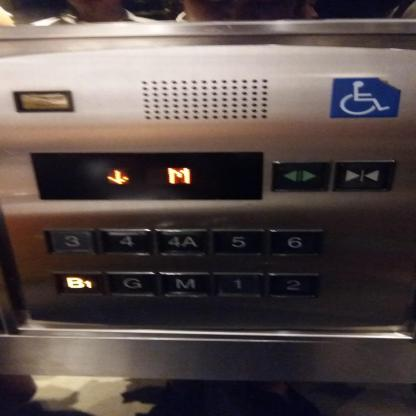1: (210, 272, 264, 300)
2: (264, 271, 322, 300)
3: (42, 228, 99, 258)
4: (98, 227, 154, 257)
4A: (153, 226, 209, 258)
5: (208, 227, 265, 258)
6: (265, 228, 323, 257)
B1: (51, 272, 102, 298)
CH: (328, 74, 402, 121)
G: (104, 271, 156, 299)
M: (156, 271, 210, 300)
close: (332, 160, 398, 192)
led: (27, 150, 265, 202)
open: (268, 160, 332, 193)
text_blur: (9, 88, 76, 113)
